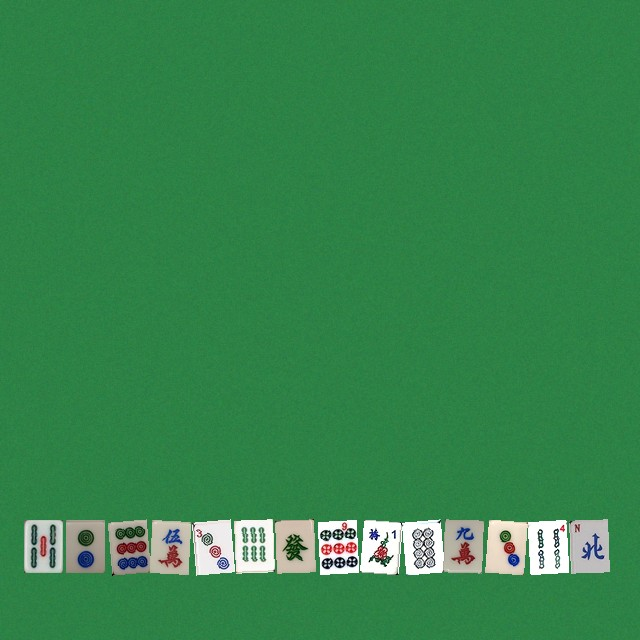tile: (23, 519, 62, 572), (65, 519, 104, 572), (107, 519, 146, 572), (149, 519, 188, 572), (191, 519, 230, 572), (233, 519, 272, 572), (275, 519, 314, 572), (317, 519, 356, 572), (359, 519, 398, 572), (401, 519, 440, 572), (443, 519, 482, 572), (485, 519, 524, 572), (527, 519, 566, 572), (569, 519, 608, 572)
